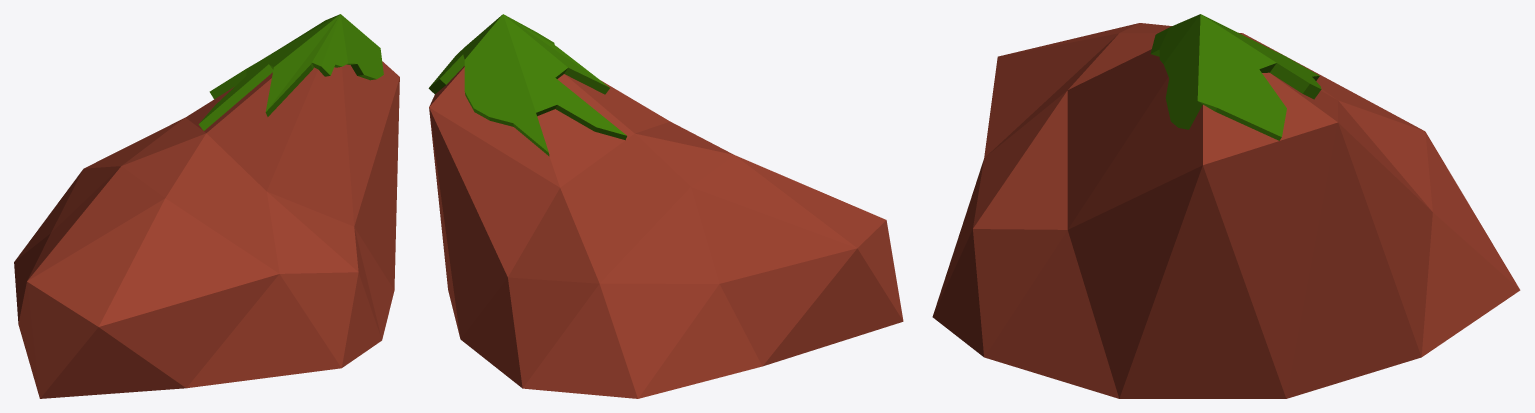
Rendered from stenen6.fbx.
3 views of the same model, side by side, from view 1: azimuth 30°, elevation 25°; view 2: azimuth 150°, elevation 25°; view 3: azimuth 270°, elevation 25° (orthographic). The views are drawn at different scales.
Visible parts, largest first — view 1: Icosphere.011; view 2: Icosphere.011; view 3: Icosphere.011.
Part boxes in pixels (<box>): Icosphere.011: <box>14,14,399,398</box>; Icosphere.011: <box>428,14,903,398</box>; Icosphere.011: <box>932,14,1520,398</box>.
Size of the model in its own units: 248 by 150 by 217.
